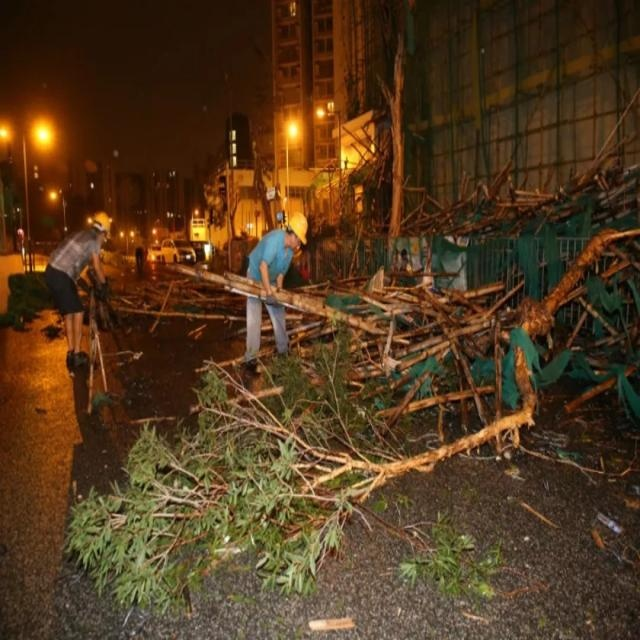Con_Casco: (284, 212, 309, 253)
